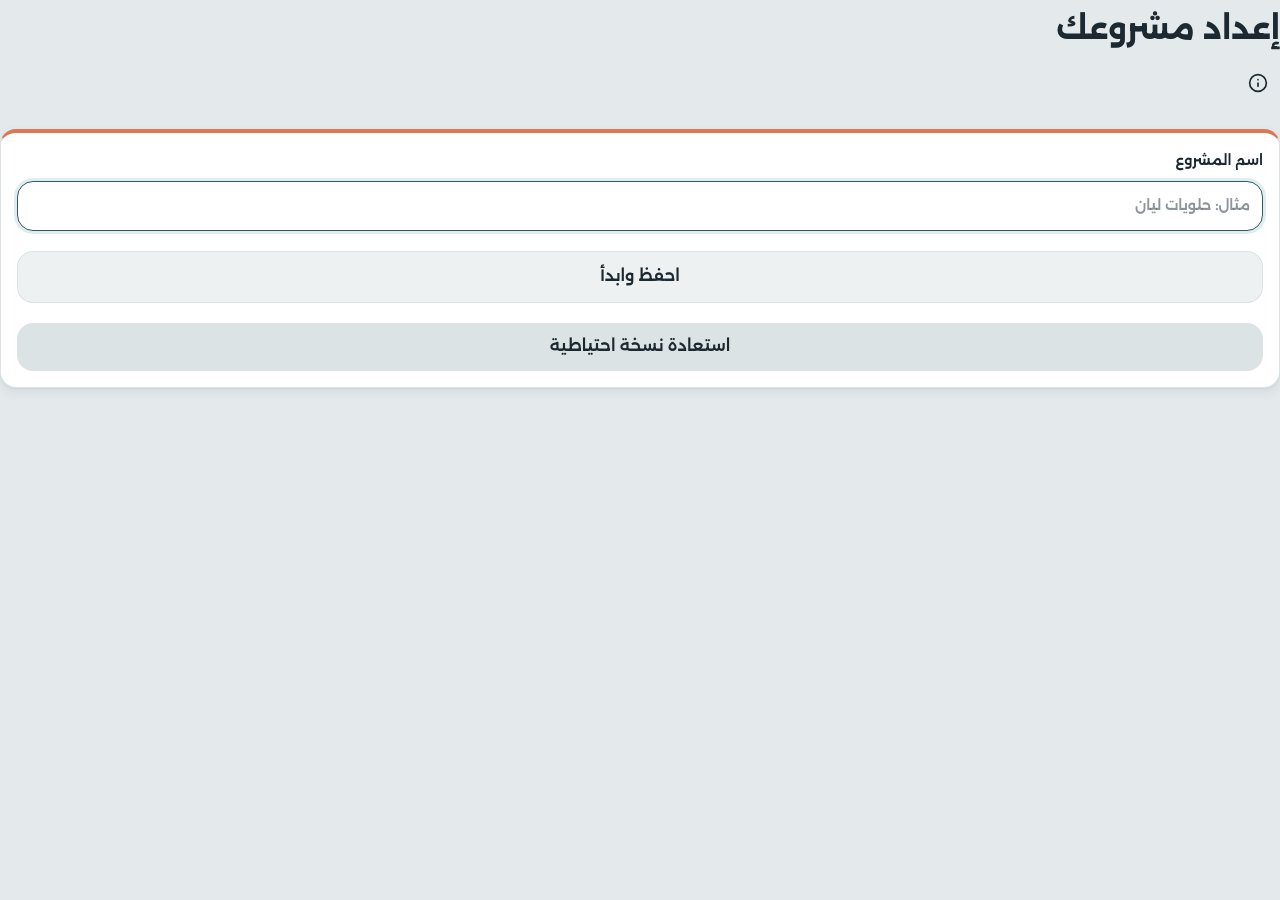
Test case: UNIT-001 info dialog — library modal, read-only, focus contract (R08/AC08) › a save completing while the dialog is open consumes the sentinel before leaving (RV3-N003)
Type "مشغل الحوار المفتوح" into the field labelled "اسم المشروع" at {"x": 640, "y": 206}, box [17,181,1263,230]
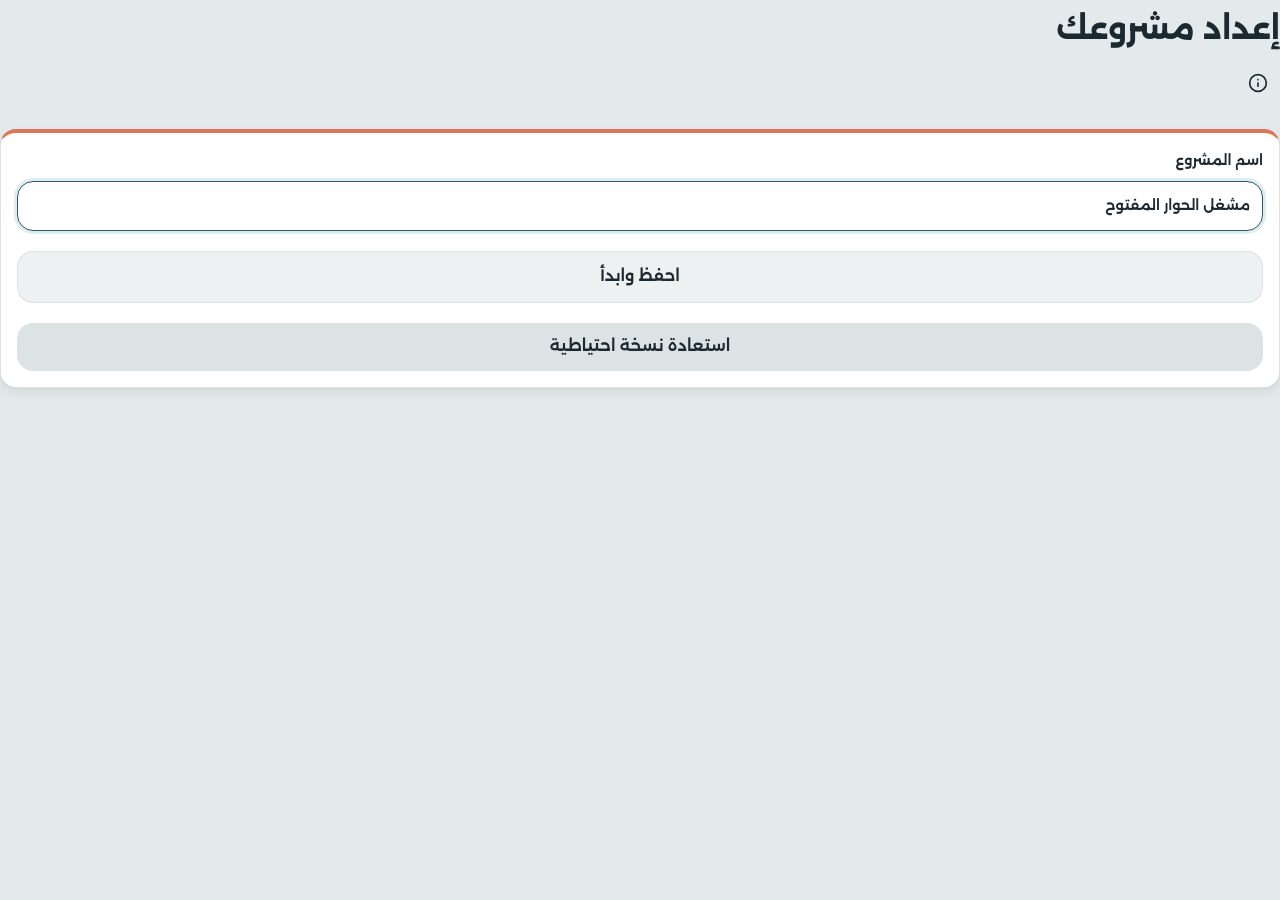
Click the button "احفظ وابدأ" at {"x": 640, "y": 276}, box [17,250,1263,302]
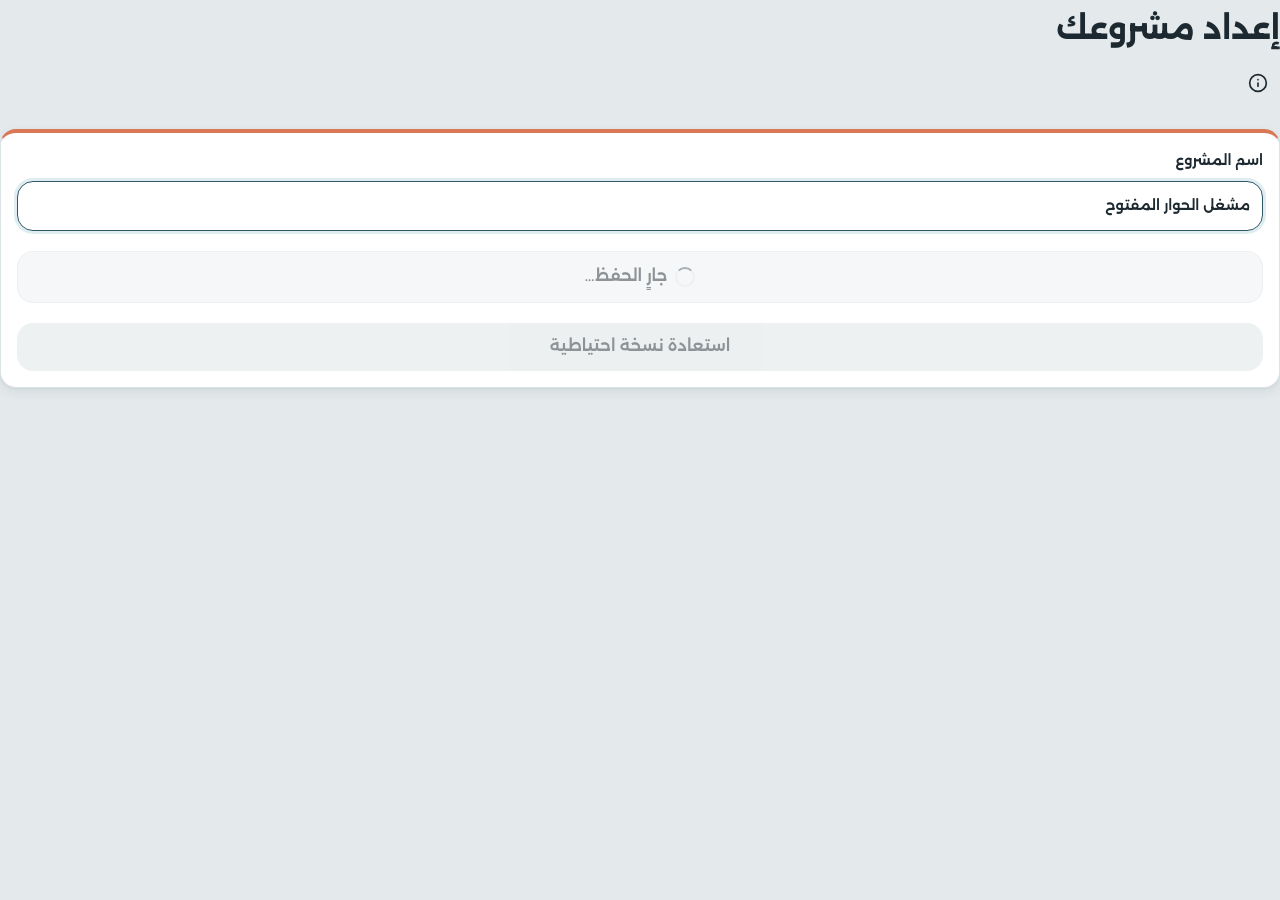
Result: the text "جارٍ الحفظ…" is shown at [585,265,667,288]
Click the button named "معلومات الإعداد وحفظ البيانات" at {"x": 1258, "y": 83}, box [1236,61,1279,105]
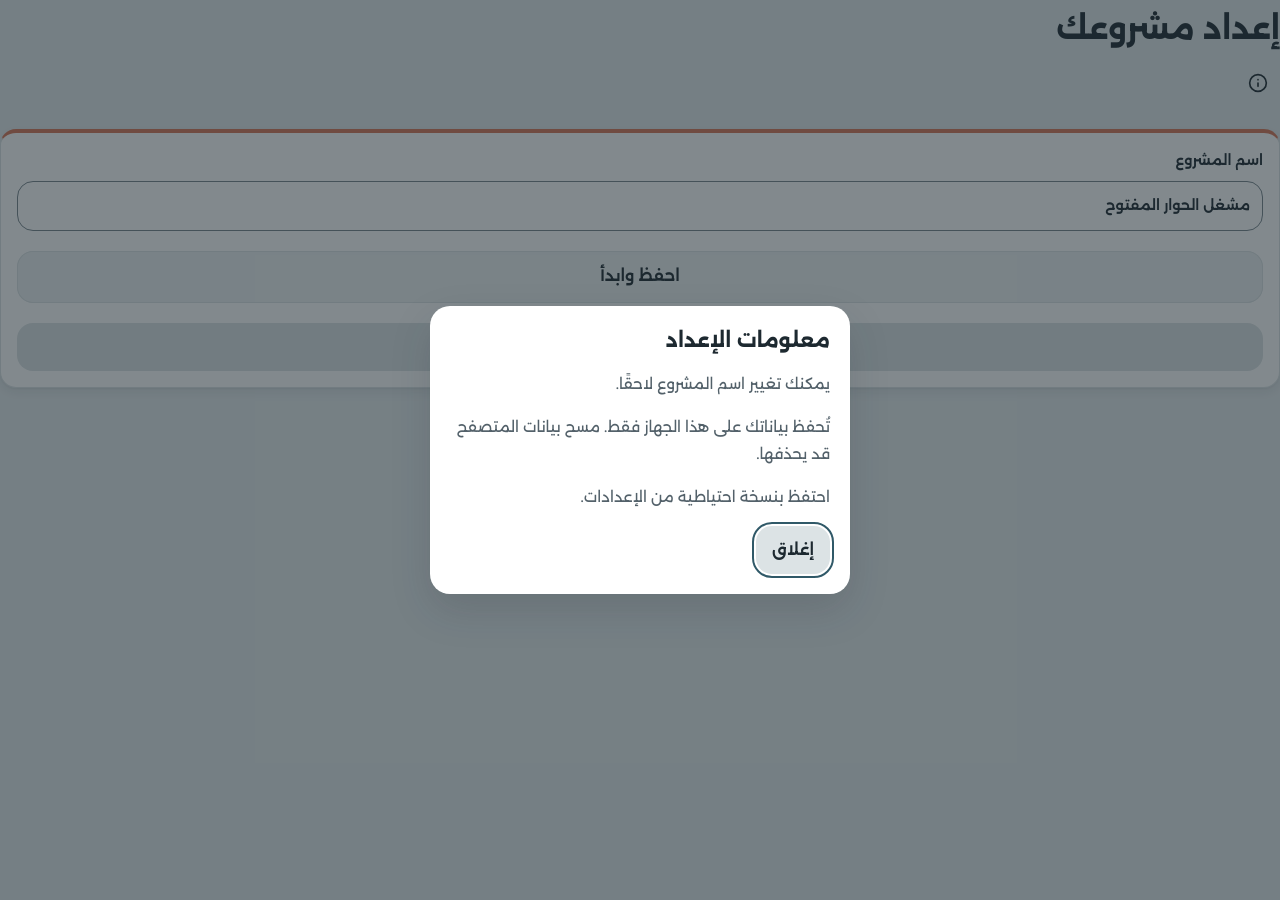
Result: the dialog with test id "setup-info-dialog" is shown at [430,306,850,594]
